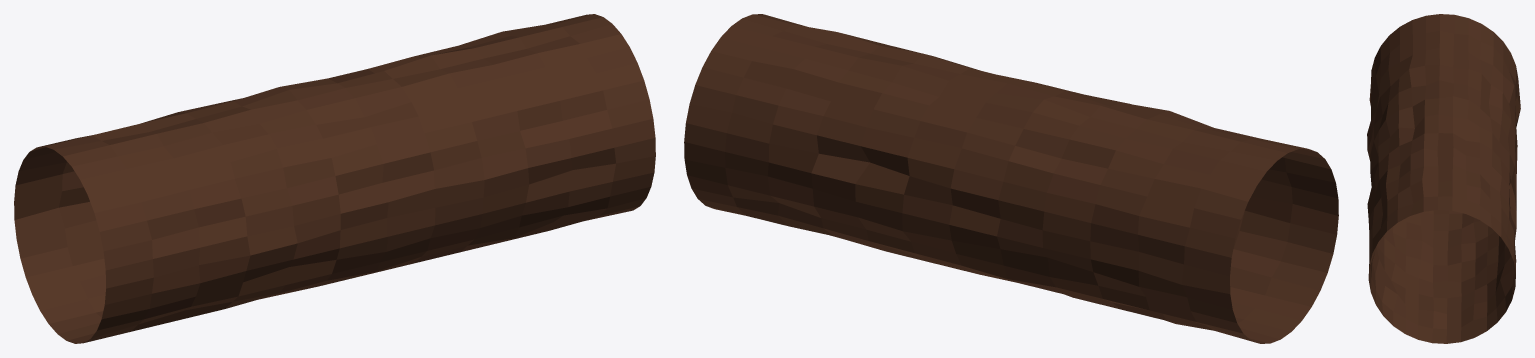
File: tunnel4.fbx
The picture shows the model from 3 angles, left to right: view 1: azimuth 30°, elevation 25°; view 2: azimuth 150°, elevation 25°; view 3: azimuth 270°, elevation 25°; orthographic projection. The views are drawn at different scales.
Parts seen in each view (by area): view 1: Cylinder; view 2: Cylinder; view 3: Cylinder.
Boxes of the visible parts, x1,y1,x2,y2 form: Cylinder: [14, 14, 655, 343]; Cylinder: [684, 14, 1338, 343]; Cylinder: [1367, 14, 1520, 343].
Bounding box in the file's own units: 4727 × 1509 × 1542.
